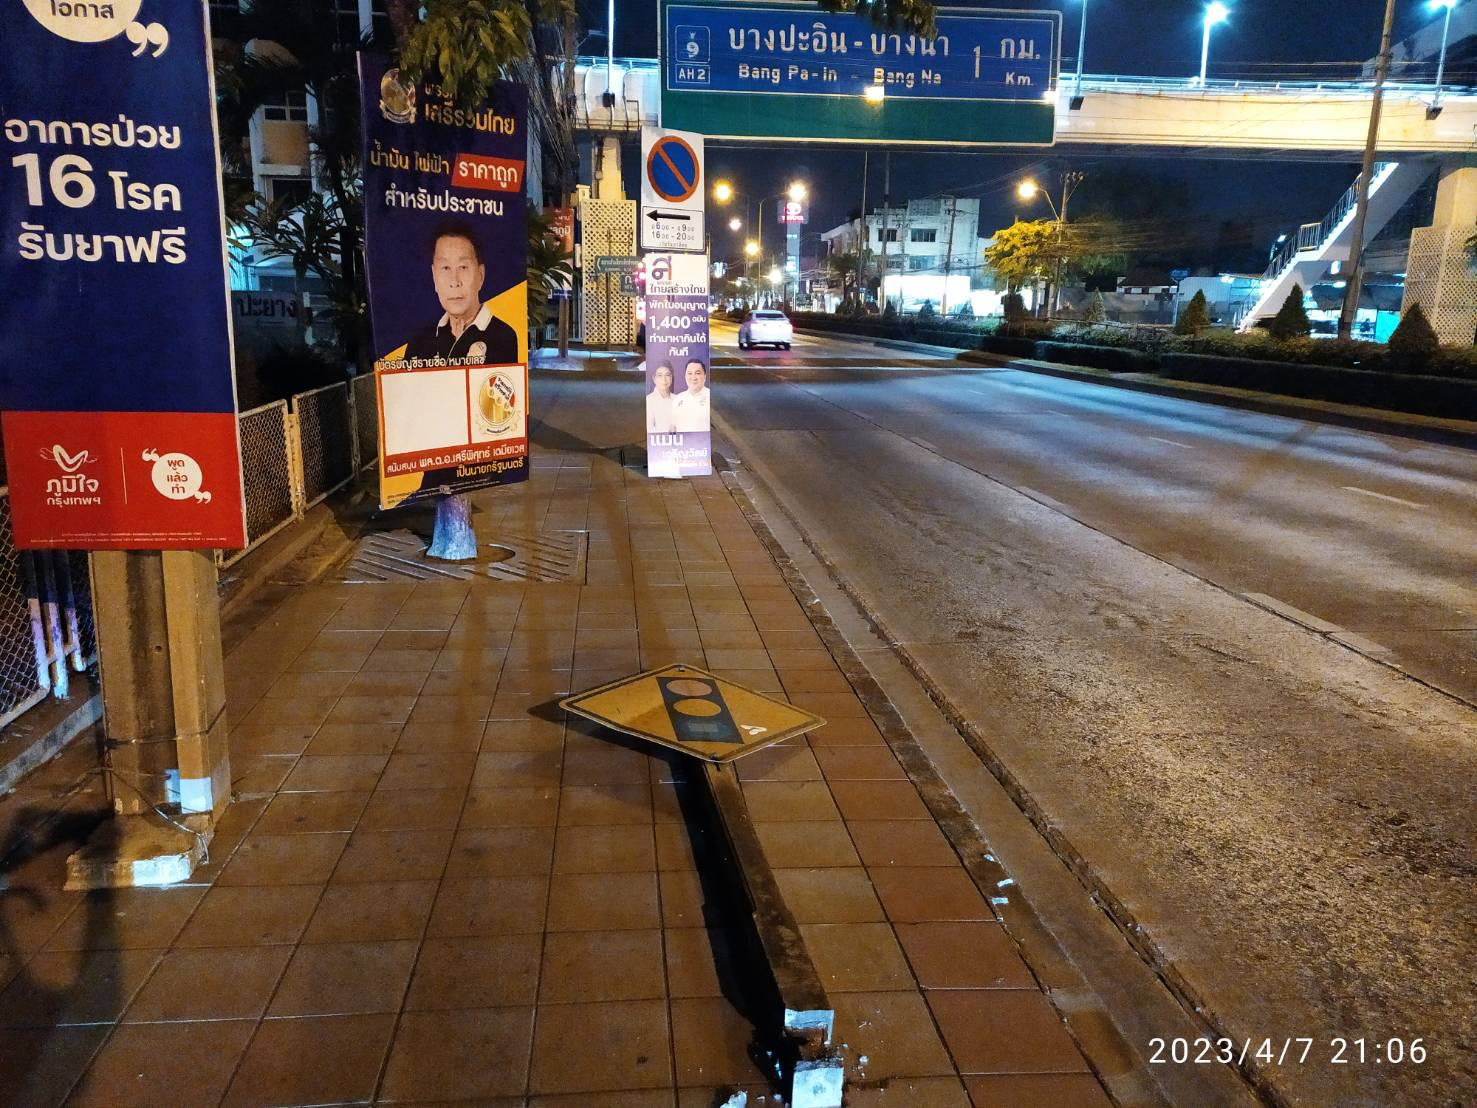Banner: (0, 0, 246, 539), (367, 74, 537, 513), (648, 256, 715, 480)
